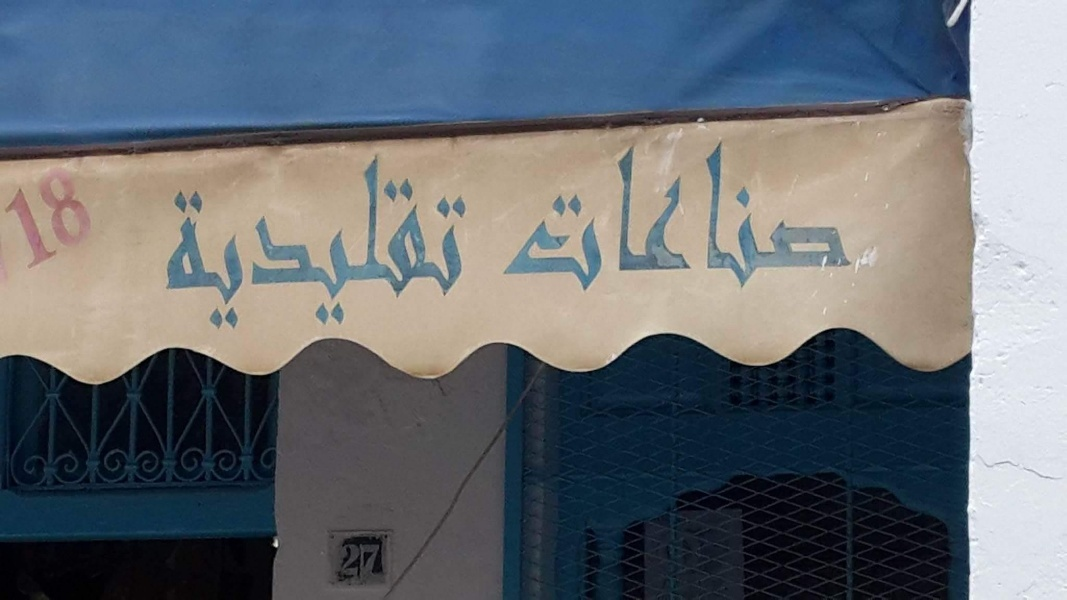text: (177, 153, 192, 337), (193, 153, 208, 337), (209, 153, 224, 337), (225, 153, 240, 337), (241, 153, 256, 337), (257, 153, 272, 337), (273, 153, 288, 337), (289, 153, 304, 337), (305, 153, 320, 337), (321, 153, 336, 337), (337, 153, 352, 337), (353, 153, 368, 337), (369, 153, 384, 337), (385, 153, 400, 337), (401, 153, 416, 337), (417, 153, 432, 337), (433, 153, 448, 337), (449, 153, 464, 337), (513, 127, 528, 296), (529, 127, 544, 296), (545, 127, 560, 296), (561, 127, 576, 296), (577, 127, 592, 296), (593, 127, 608, 296), (609, 127, 624, 296), (625, 127, 640, 296), (641, 127, 656, 296), (657, 127, 672, 296), (673, 127, 688, 296), (689, 127, 704, 296), (705, 127, 720, 296), (721, 127, 736, 296), (737, 127, 752, 296), (753, 127, 768, 296), (769, 127, 784, 296), (785, 127, 800, 296), (801, 127, 816, 296), (817, 127, 832, 296), (833, 127, 848, 296), (1, 154, 16, 275), (17, 154, 32, 275), (33, 154, 48, 275), (49, 154, 64, 275), (65, 154, 80, 275), (81, 154, 96, 275), (502, 127, 512, 296), (167, 153, 176, 337), (849, 127, 857, 296), (353, 537, 368, 585), (369, 537, 384, 585), (339, 537, 352, 585), (465, 153, 468, 337), (97, 154, 99, 275), (385, 537, 388, 585)
